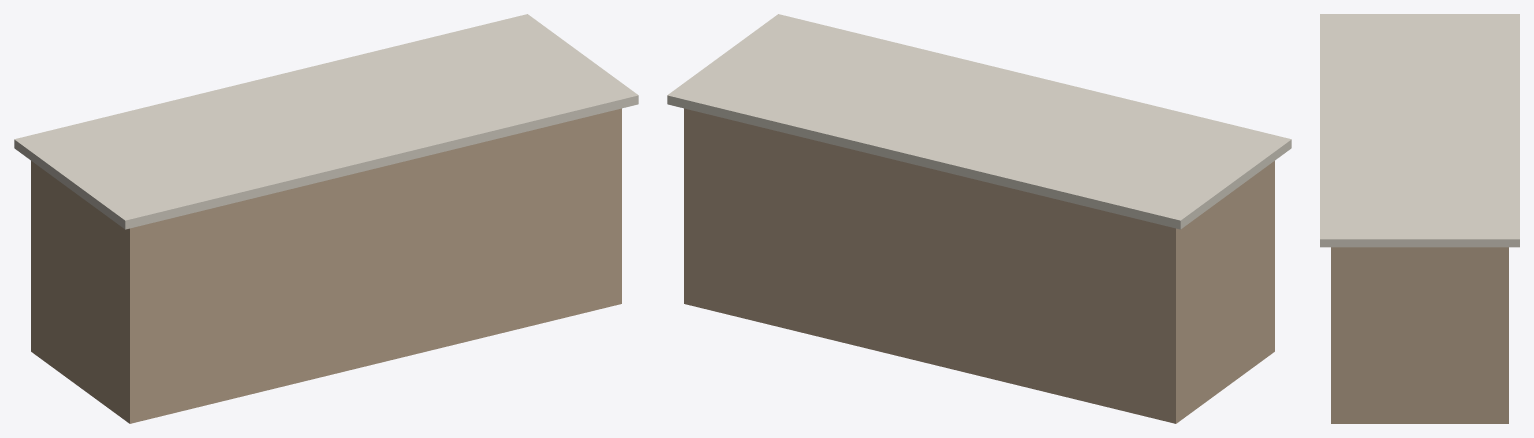
Rendered from kit_island_240.glb.
3 views of the same model, side by side, from view 1: azimuth 30°, elevation 25°; view 2: azimuth 150°, elevation 25°; view 3: azimuth 270°, elevation 25° (orthographic). The views are drawn at different scales.
Parts seen in each view (by area): view 1: kit_island_240; view 2: kit_island_240; view 3: kit_island_240.
Boxes of the visible parts, x1,y1,x2,y2 form: kit_island_240: (14,14,638,423); kit_island_240: (667,14,1291,423); kit_island_240: (1320,14,1519,423).
Size of what is drawn, in the model's own units: 2.4 by 0.94 by 0.9.
